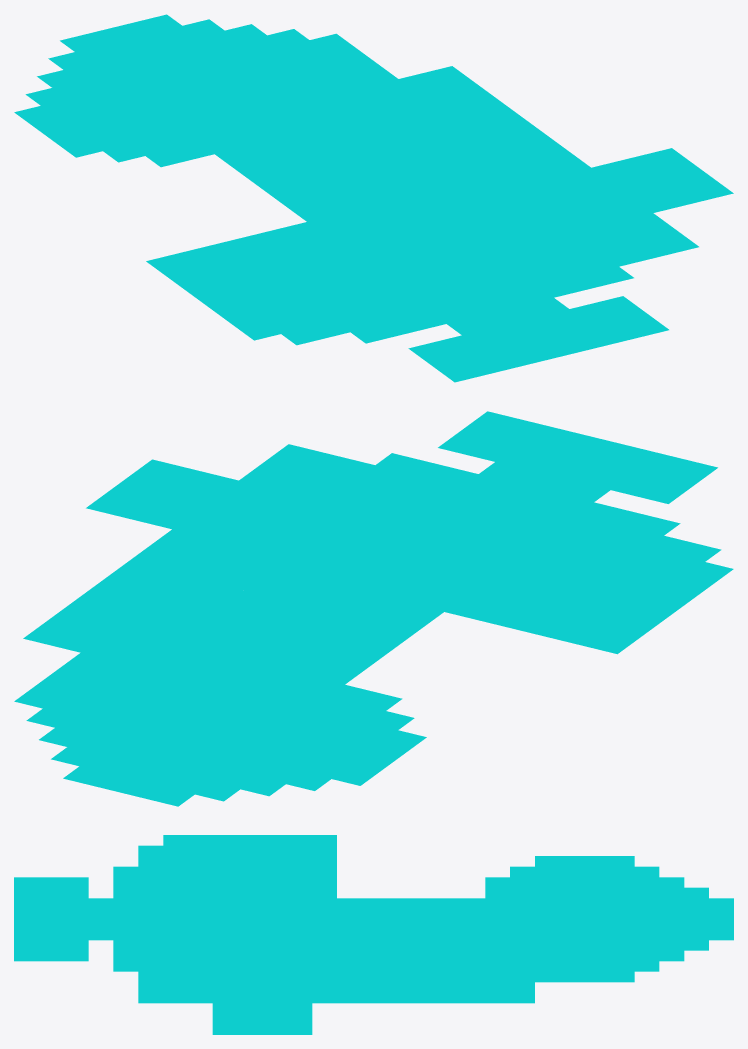
Rendered from Roof.fbx.
3 views of the same model, one above another, from view 1: azimuth 30°, elevation 25°; view 2: azimuth 150°, elevation 25°; view 3: azimuth 270°, elevation 25° (orthographic). The views are drawn at different scales.
Bounding box in the file's own units: 63.88 × 3.91e-14 × 97.32.
